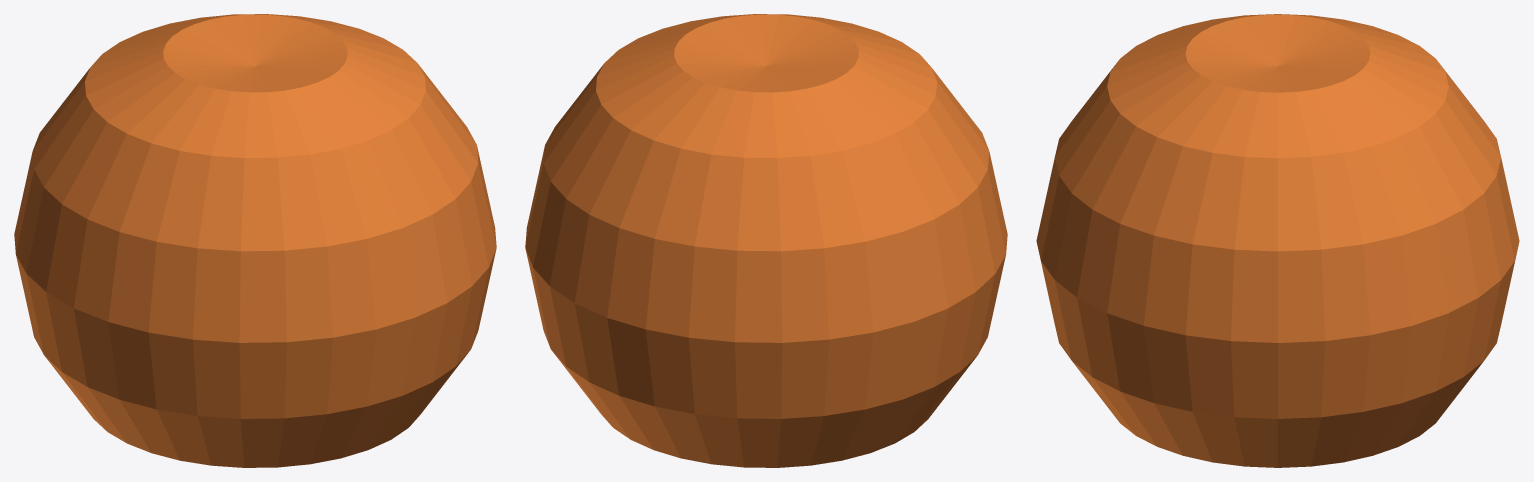
Rendered from cherry tomato.glb.
3 renders of one model, left to right at view 1: azimuth 30°, elevation 25°; view 2: azimuth 150°, elevation 25°; view 3: azimuth 270°, elevation 25°, orthographic.
Parts seen in each view (by area): view 1: Sphere; view 2: Sphere; view 3: Sphere.
Part boxes in pixels (x1,y1,x2,y2): Sphere: [14, 14, 496, 467]; Sphere: [525, 14, 1007, 467]; Sphere: [1036, 14, 1519, 467].
Bounding box in the file's own units: 3.94 × 3.31 × 3.94.
